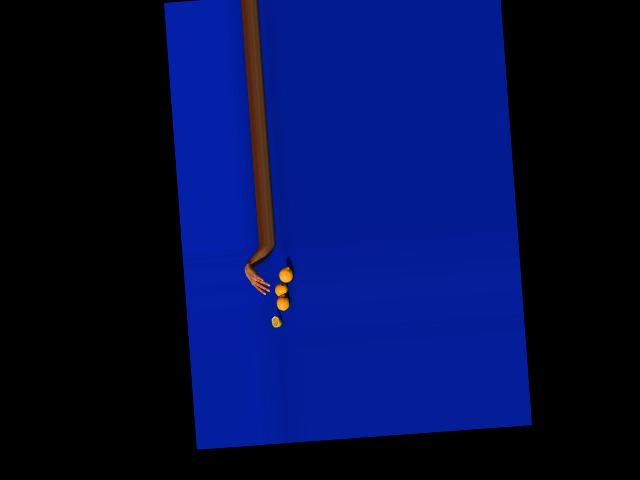lemon: (275, 294, 288, 312)
